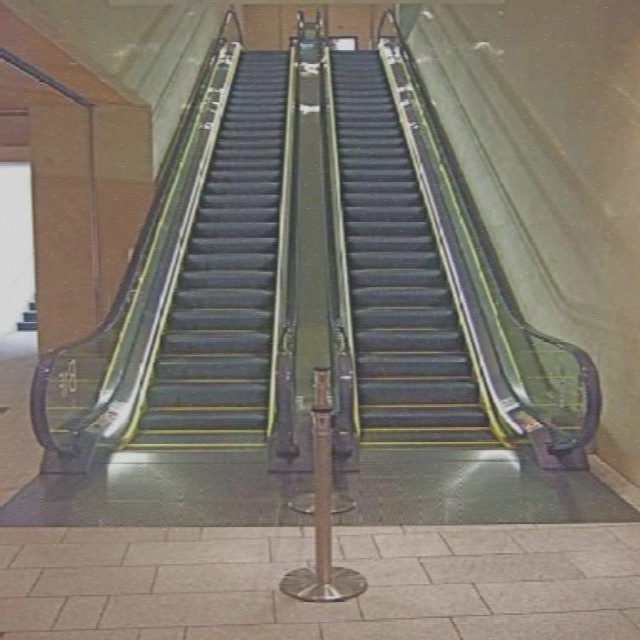stair: (323, 45, 512, 449), (121, 49, 290, 446), (14, 291, 35, 331)
